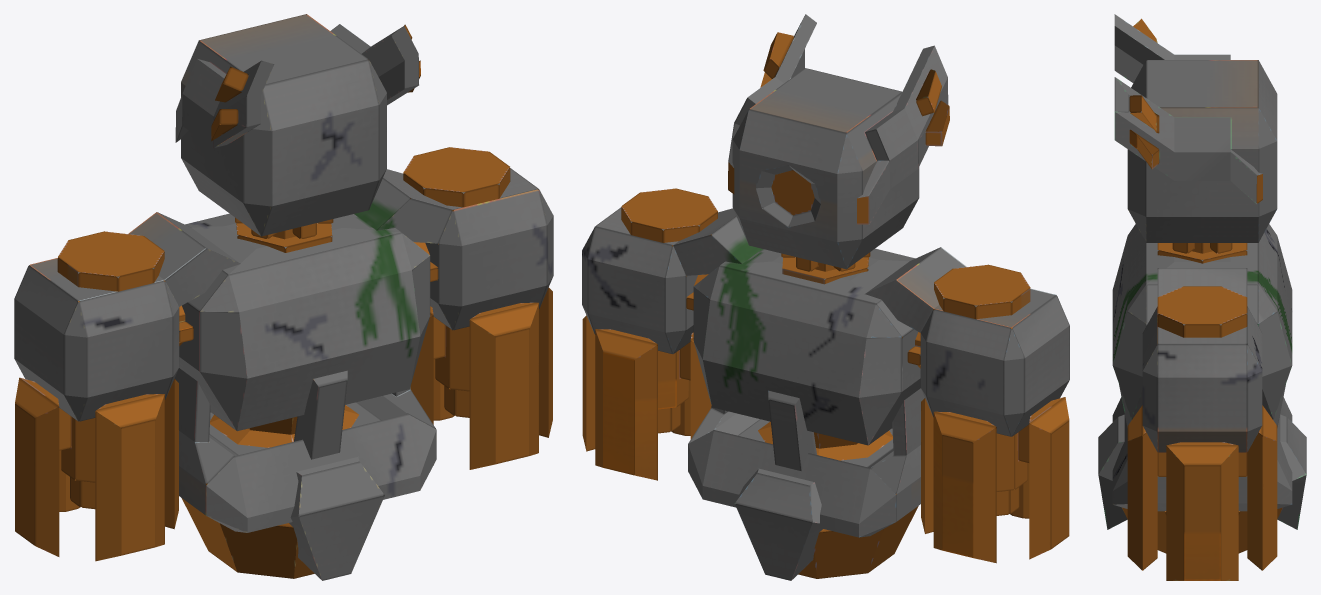
Rendered from backup_24.3.25_6.19_PlayerRobo.fbx.
3 views of the same model, side by side, from view 1: azimuth 30°, elevation 25°; view 2: azimuth 150°, elevation 25°; view 3: azimuth 270°, elevation 25° (orthographic). The views are drawn at different scales.
Parts seen in each view (by area): view 1: beveled_cuboid, beveled_cuboid_1, beveled_cuboid_2, beveled_cuboid_3, cylinder_4, cylinder_5, beveled_cuboid_4, sphere_1, cylinder_6, cylinder_7, cylinder_1; view 2: beveled_cuboid, beveled_cuboid_1, beveled_cuboid_2, beveled_cuboid_3, cylinder_4, cylinder_5, beveled_cuboid_4, sphere_1, cylinder_6, cylinder_7, cylinder_1; view 3: beveled_cuboid, cylinder_5, beveled_cuboid_4, beveled_cuboid_1, beveled_cuboid_2, cylinder_7, cylinder_1, sphere_1, cylinder.
Boxes of the visible parts, box(x1,y1,x2,y2) form: beveled_cuboid: box(175, 14, 420, 236); beveled_cuboid_1: box(179, 213, 430, 431); beveled_cuboid_2: box(174, 368, 436, 580); beveled_cuboid_3: box(14, 212, 240, 421); cylinder_4: box(15, 377, 178, 561); cylinder_5: box(410, 287, 552, 469); beveled_cuboid_4: box(354, 168, 553, 330); sphere_1: box(181, 405, 358, 578); cylinder_6: box(57, 231, 164, 302); cylinder_7: box(403, 147, 510, 211); cylinder_1: box(236, 223, 332, 252); beveled_cuboid: box(728, 14, 949, 269); beveled_cuboid_1: box(693, 248, 920, 445); beveled_cuboid_2: box(688, 388, 924, 580); beveled_cuboid_3: box(865, 247, 1069, 436); cylinder_4: box(921, 397, 1069, 563); cylinder_5: box(582, 315, 711, 480); beveled_cuboid_4: box(582, 207, 761, 353); sphere_1: box(758, 421, 918, 578); cylinder_6: box(934, 264, 1030, 328); cylinder_7: box(621, 188, 717, 246); cylinder_1: box(782, 257, 868, 284); beveled_cuboid: box(1114, 14, 1277, 242); cylinder_5: box(1127, 405, 1277, 580); beveled_cuboid_4: box(1142, 268, 1262, 452); beveled_cuboid_1: box(1112, 224, 1292, 419); beveled_cuboid_2: box(1098, 384, 1306, 529); cylinder_7: box(1157, 286, 1247, 337); cylinder_1: box(1157, 243, 1247, 263); sphere_1: box(1122, 507, 1282, 553); cylinder: box(1172, 243, 1232, 253).
Size of the model in its own units: 225 by 235 by 86.96.
Materials: 1 (1 with a texture image).
